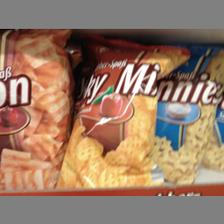Chips: (62, 34, 166, 186), (0, 28, 70, 188), (153, 44, 223, 182)
